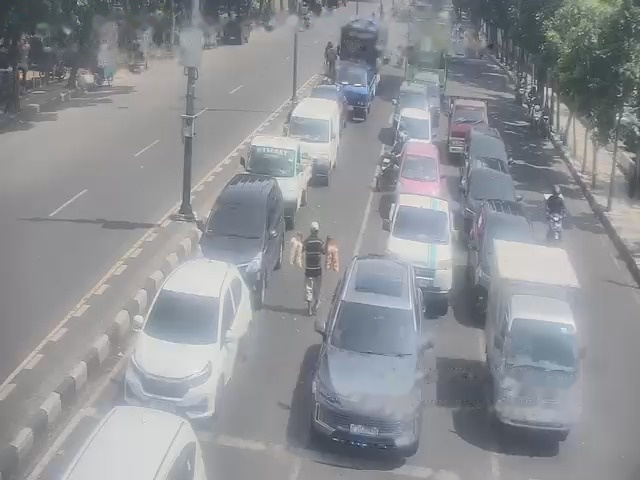Bis: (286, 97, 342, 185)
Mobil: (319, 252, 419, 450), (496, 245, 592, 433), (132, 255, 234, 413), (44, 403, 197, 478), (195, 174, 276, 277), (466, 199, 537, 316), (382, 194, 454, 292), (460, 167, 521, 235), (244, 135, 308, 183), (462, 125, 513, 184), (399, 137, 442, 199), (397, 108, 431, 142)
Motor: (544, 194, 565, 240), (375, 151, 398, 191), (545, 211, 563, 240), (547, 212, 563, 240), (530, 105, 542, 131), (538, 111, 549, 138), (515, 87, 524, 104), (303, 14, 311, 29), (342, 0, 346, 6)
Truk: (447, 97, 487, 157)
